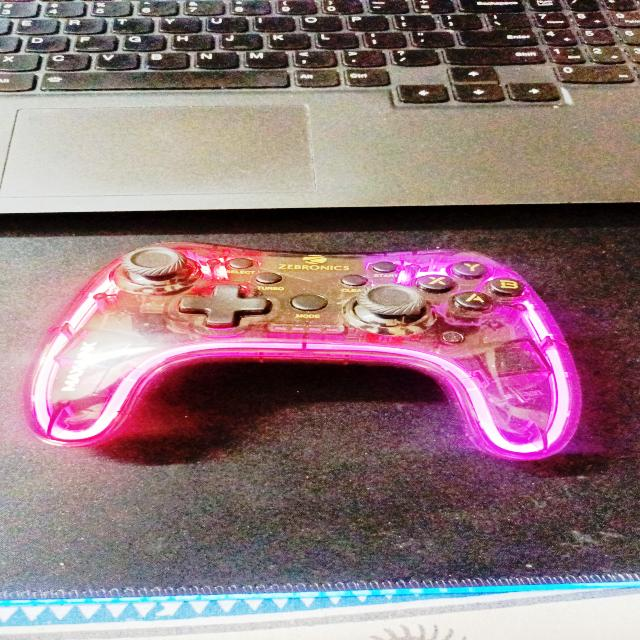gamepad: (21, 241, 583, 461)
